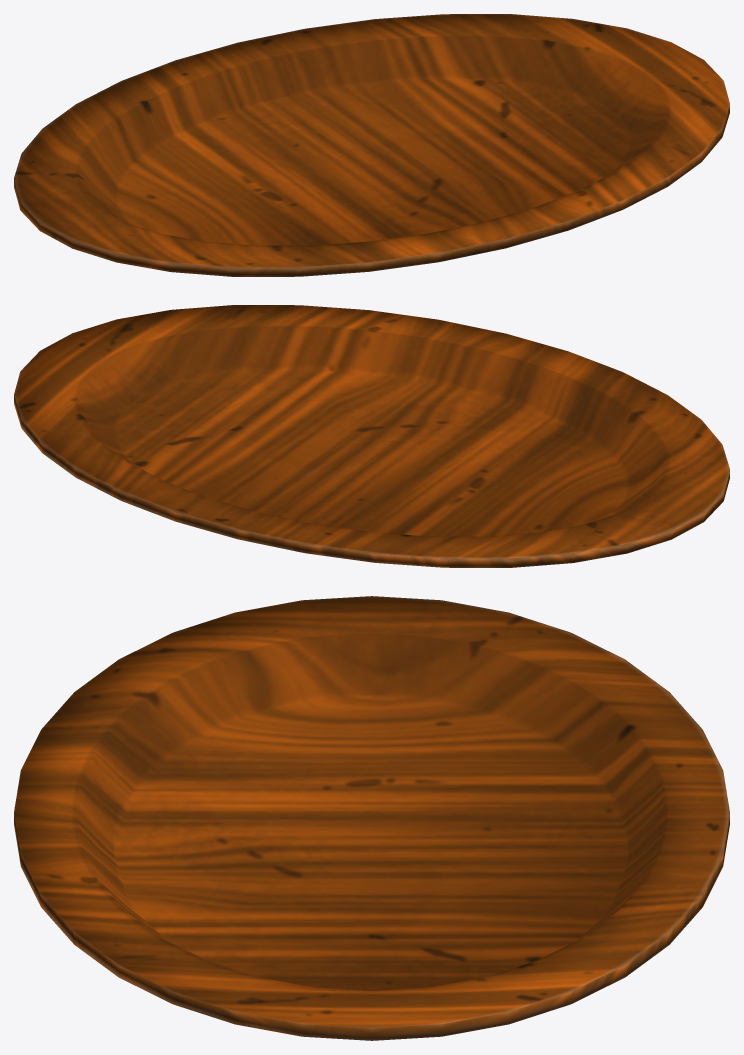
Rendered from sb_obj_indoor006_Plate05.fbx.
3 views of the same model, one above another, from view 1: azimuth 30°, elevation 25°; view 2: azimuth 150°, elevation 25°; view 3: azimuth 270°, elevation 25° (orthographic). The views are drawn at different scales.
Visible parts, largest first — view 1: Plate5; view 2: Plate5; view 3: Plate5.
Part boxes in pixels (x1,y1,x2,y2): Plate5: (14, 14, 729, 276); Plate5: (14, 305, 729, 567); Plate5: (14, 596, 729, 1040).
Size of the model in its own units: 0.4181 by 0.0224 by 0.2927.
